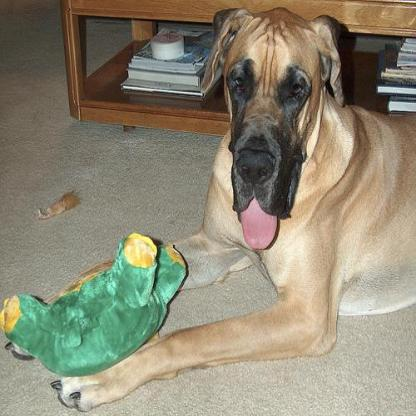Great_Dane: (4, 8, 414, 411)
